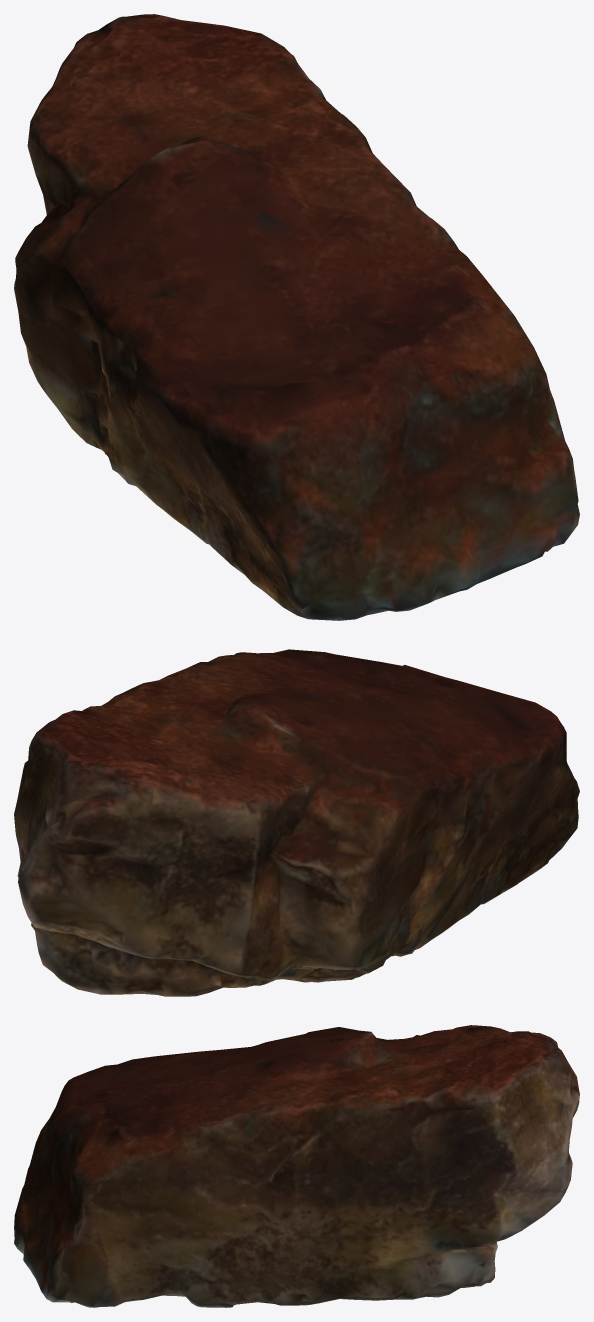
The model's file is pedra_mata.glb.
3 renders of one model, top to bottom at view 1: azimuth 30°, elevation 25°; view 2: azimuth 150°, elevation 25°; view 3: azimuth 270°, elevation 25°, orthographic. The views are drawn at different scales.
Parts seen in each view (by area): view 1: rock_07; view 2: rock_07; view 3: rock_07.
Part boxes in pixels (bbox=[...]): rock_07: bbox=[14, 14, 579, 620]; rock_07: bbox=[14, 649, 579, 996]; rock_07: bbox=[14, 1025, 579, 1307].
Bounding box in the file's own units: 0.1686 × 0.1437 × 0.3199.
Materials: 1 (1 with a texture image).
